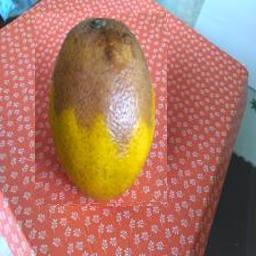Orange Rotten: (36, 14, 168, 207)
